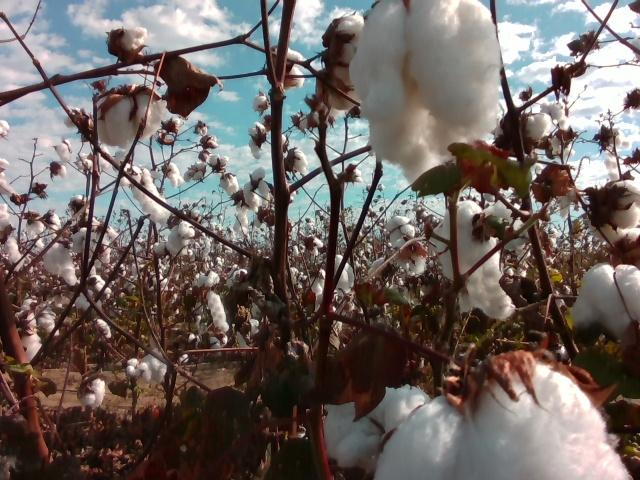cotton_ready: (374, 362, 635, 480), (347, 0, 502, 186), (435, 199, 516, 320), (322, 384, 432, 471), (568, 264, 640, 335), (95, 94, 172, 150), (325, 17, 367, 118), (590, 177, 640, 244), (192, 272, 231, 334), (312, 252, 357, 302), (15, 297, 44, 365), (492, 112, 555, 143), (43, 244, 79, 288), (72, 224, 110, 265), (275, 49, 306, 90), (382, 216, 416, 247), (115, 24, 148, 54), (81, 377, 106, 407)
